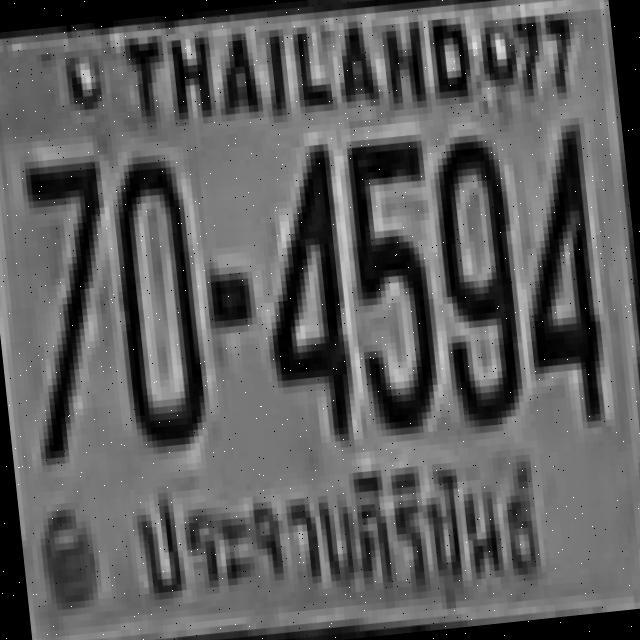0: (99, 150, 208, 446)
4: (248, 137, 352, 440), (506, 117, 607, 420)
5: (336, 134, 446, 432)
7: (15, 154, 124, 458), (20, 155, 120, 412), (19, 154, 113, 352)
9: (420, 126, 524, 423)
PrachuapKhiriKhan: (118, 438, 562, 638)
